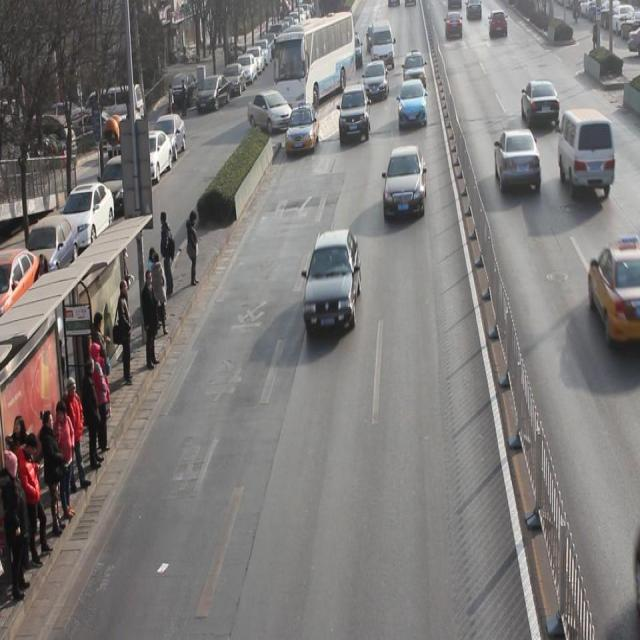car: (304, 228, 363, 336), (590, 238, 640, 346), (384, 146, 426, 222), (495, 130, 542, 194), (248, 88, 295, 134), (522, 81, 562, 131), (340, 84, 372, 146), (286, 103, 321, 159), (400, 78, 428, 128), (364, 62, 389, 102), (403, 50, 427, 91)
truck: (560, 108, 616, 197), (370, 21, 395, 69)
van: (274, 12, 353, 114)
